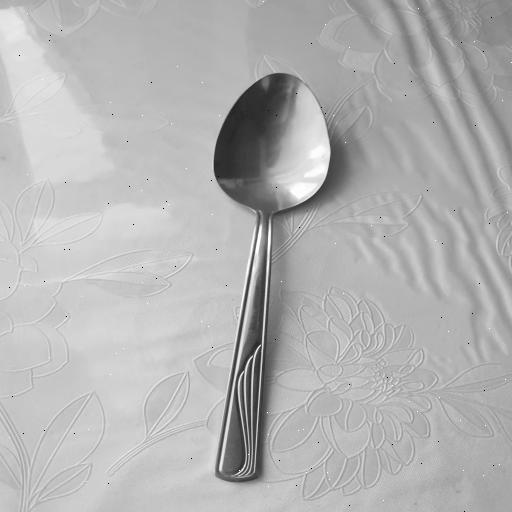spoon: (214, 68, 320, 484)
